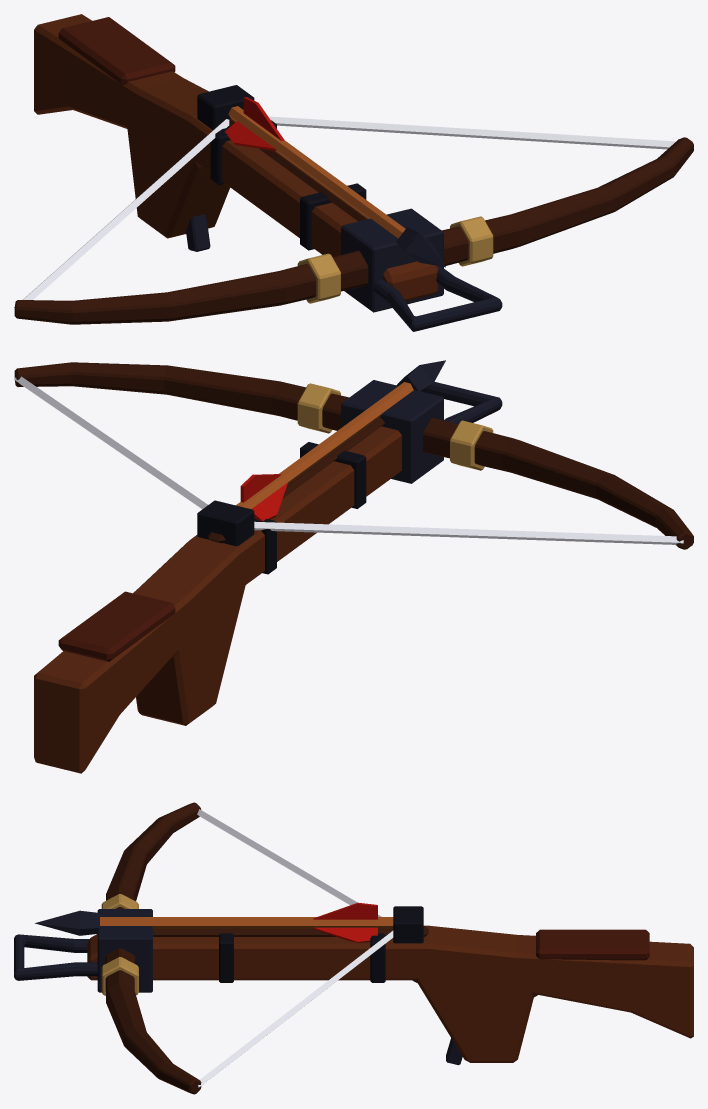
Rendered from myw_crossbow.obj.
The picture shows the model from 3 angles, top to bottom: view 1: azimuth 30°, elevation 25°; view 2: azimuth 150°, elevation 25°; view 3: azimuth 270°, elevation 25°; orthographic projection. The views are drawn at different scales.
Parts seen in each view (by area): view 1: Stock, Prod, Metal, Bolt, Cheek, String_R, String_L; view 2: Stock, Prod, Metal, Bolt, Cheek, String_L, String_R; view 3: Stock, Prod, Metal, Bolt, Cheek, String_R, String_L.
Part boxes in pixels (box(x1,y1,x2,y2)): Stock: box(34, 14, 438, 301); Prod: box(14, 137, 693, 324); Metal: box(186, 85, 502, 331); Bolt: box(225, 97, 445, 267); Cheek: box(58, 17, 175, 85); String_R: box(268, 116, 675, 149); String_L: box(14, 119, 229, 307); Stock: box(34, 418, 401, 773); Prod: box(14, 362, 693, 549); Metal: box(197, 380, 502, 574); Bolt: box(236, 360, 445, 521); Cheek: box(58, 591, 175, 661); String_L: box(254, 521, 683, 544); String_R: box(14, 376, 207, 509); Stock: box(87, 925, 693, 1062); Prod: box(101, 802, 201, 1094); Metal: box(14, 906, 462, 1065); Bolt: box(35, 902, 393, 942); Cheek: box(536, 929, 649, 960); String_R: box(197, 930, 393, 1087); String_L: box(197, 809, 381, 916).
Bounding box in the file's own units: 2.63 × 0.6989 × 2.69.
